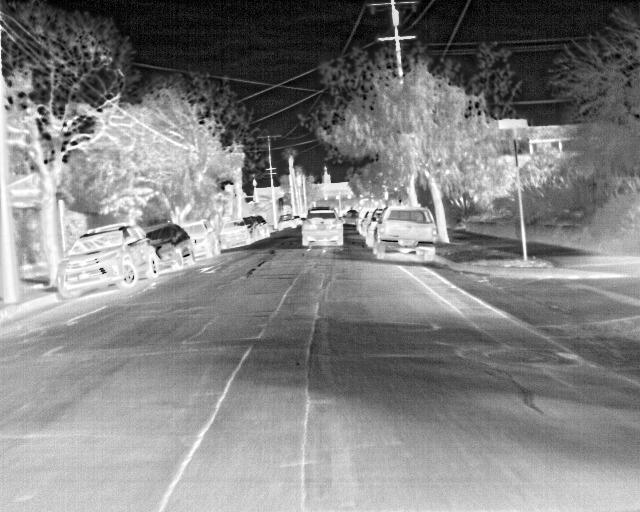car: (55, 221, 160, 301), (371, 206, 437, 261), (148, 225, 193, 272), (300, 209, 346, 245), (182, 221, 220, 258), (221, 218, 254, 248), (363, 212, 384, 245), (249, 216, 271, 239), (356, 208, 372, 231), (342, 207, 357, 225), (278, 214, 293, 229), (292, 212, 305, 225)
